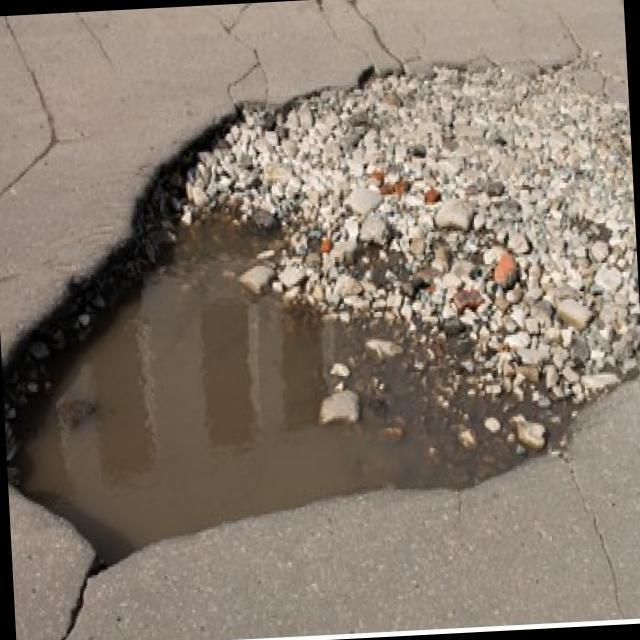pothole: (0, 73, 640, 557)
